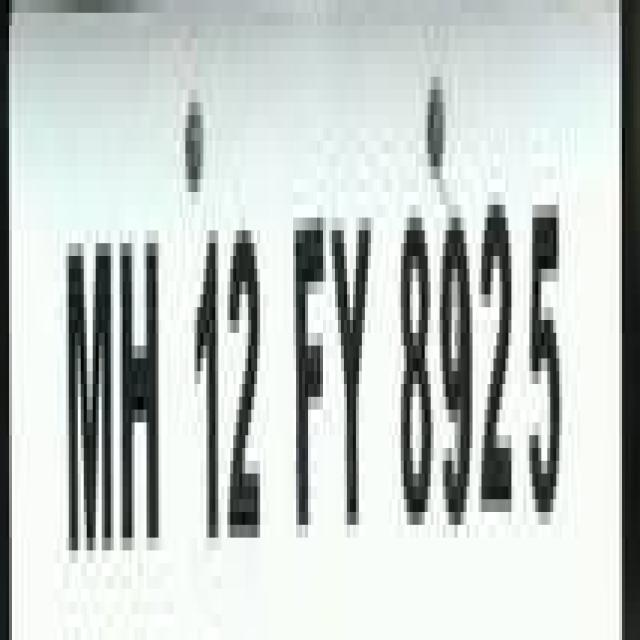license_plate: (21, 13, 640, 640)
